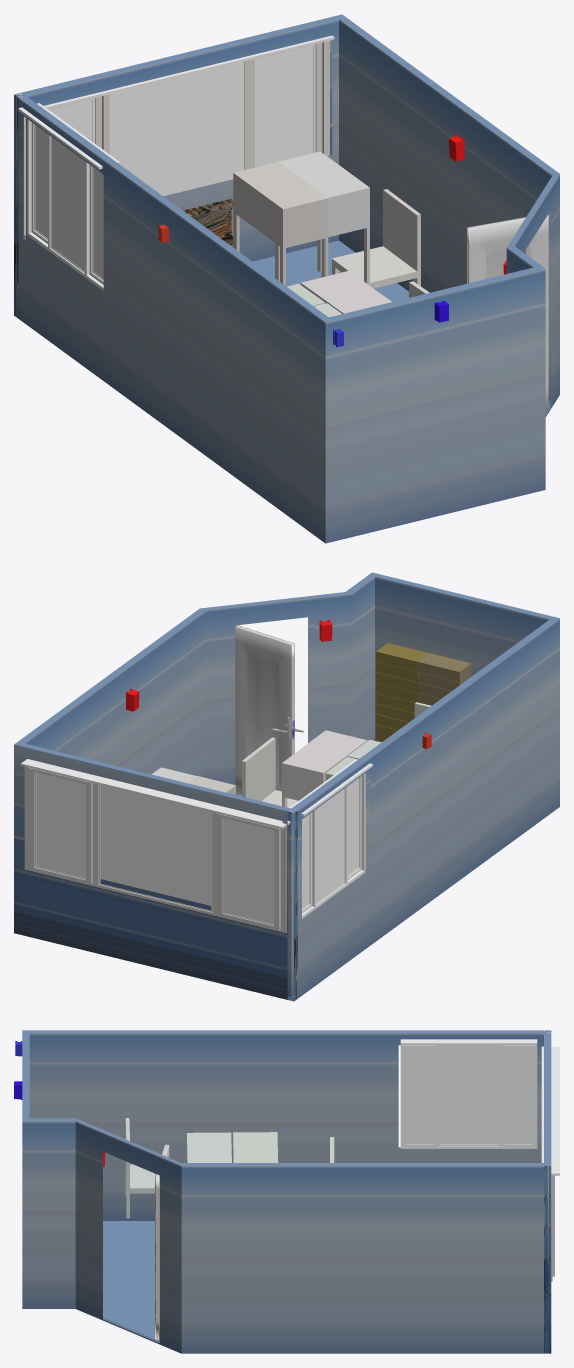
File: IMT_ENTREPRISE_BUREAU_522.glb
3 renders of one model, top to bottom at view 1: azimuth 30°, elevation 25°; view 2: azimuth 150°, elevation 25°; view 3: azimuth 270°, elevation 25°, orthographic. The views are drawn at different scales.
Visible parts, largest first — view 1: Mur6, Mur5, Fenêtres, Mur2, Mur1, TABLE2, TABLE 4, CHAISE 4, Mur3, Porte, Mur4, Plancher Bas (+2 smaller); view 2: Mur6, Fenêtres, Mur1, Mur2, Mur3, Mur5, Porte, Mur4, PLACART 1, Table 2, PLACART 2, CHAISE 2; view 3: Mur2, Mur6, Fenêtres, Mur3, Mur4, Plancher Bas, Table 3, Table 1, Mur1, CHAISE 1, Porte, Mur5.
Part boxes in pixels (box(x1,y1,x2,y2)): Mur6: box(14, 92, 332, 543); Mur5: box(325, 267, 537, 543); Fenêtres: box(18, 35, 334, 290); Mur2: box(339, 17, 559, 292); Mur1: box(22, 14, 345, 261); TABLE2: box(233, 162, 328, 285); TABLE 4: box(275, 151, 369, 285); CHAISE 4: box(332, 189, 420, 288); Mur3: box(507, 174, 559, 416); Porte: box(467, 215, 548, 409); Mur4: box(506, 246, 545, 491); Plancher Bas: box(253, 240, 408, 301); Mur6: box(288, 616, 559, 1001); Fenêtres: box(21, 759, 372, 932); Mur1: box(14, 742, 291, 999); Mur2: box(18, 608, 206, 777); Mur3: box(200, 592, 351, 795); Mur5: box(375, 574, 552, 740); Porte: box(235, 625, 294, 794); Mur4: box(346, 572, 377, 740); PLACART 1: box(376, 643, 428, 742); Table 2: box(282, 730, 367, 807); PLACART 2: box(418, 653, 471, 705); CHAISE 2: box(242, 737, 298, 807); Mur2: box(181, 1163, 551, 1353); Mur6: box(22, 1030, 551, 1220); Fenêtres: box(400, 1039, 559, 1281); Mur3: box(75, 1118, 181, 1353); Mur4: box(22, 1118, 75, 1308); Plancher Bas: box(103, 1221, 159, 1341); Table 3: box(233, 1132, 278, 1162); Table 1: box(187, 1132, 231, 1162); Mur1: box(544, 1033, 551, 1165); CHAISE 1: box(125, 1118, 154, 1218); Porte: box(155, 1144, 169, 1339); Mur5: box(22, 1033, 29, 1118).
Size of the model in its own units: 4.44 by 2.8 by 7.38.
31 materials, 2 textured.
